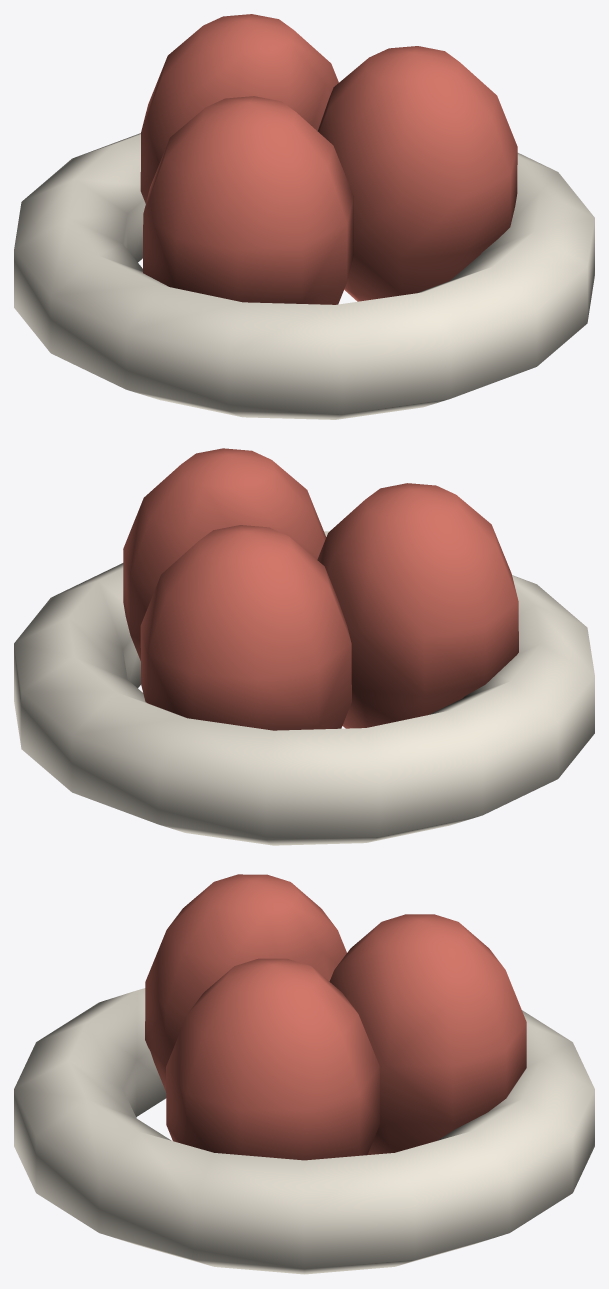
Rendered from egg_wild.glb.
The picture shows the model from 3 angles, top to bottom: view 1: azimuth 30°, elevation 25°; view 2: azimuth 150°, elevation 25°; view 3: azimuth 270°, elevation 25°; orthographic projection.
Visible parts, largest first — view 1: PART; view 2: PART; view 3: PART.
Boxes of the visible parts, x1=… form: PART: x1=14, y1=14, x2=594, y2=419; PART: x1=14, y1=448, x2=594, y2=845; PART: x1=14, y1=874, x2=594, y2=1274.
Bounding box in the file's own units: 0.1108 × 0.055 × 0.1108.
